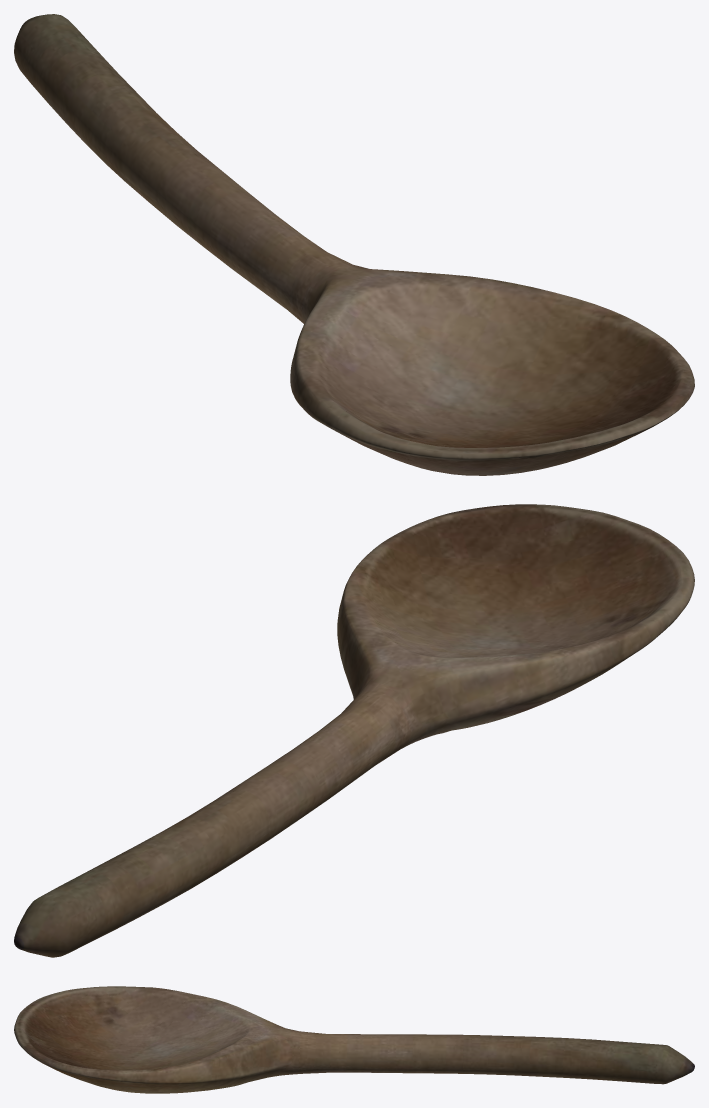
File: wooden_spoon.glb
3 renders of one model, top to bottom at view 1: azimuth 30°, elevation 25°; view 2: azimuth 150°, elevation 25°; view 3: azimuth 270°, elevation 25°, orthographic. The views are drawn at different scales.
Visible parts, largest first — view 1: wooden_spoon; view 2: wooden_spoon; view 3: wooden_spoon.
Part boxes in pixels (box(x1,y1,x2,y2)): wooden_spoon: box(14, 14, 694, 475); wooden_spoon: box(14, 504, 694, 957); wooden_spoon: box(14, 986, 694, 1093).
Size of the model in its own units: 0.0866 by 0.0251 by 0.2776.
1 material, 1 textured.
